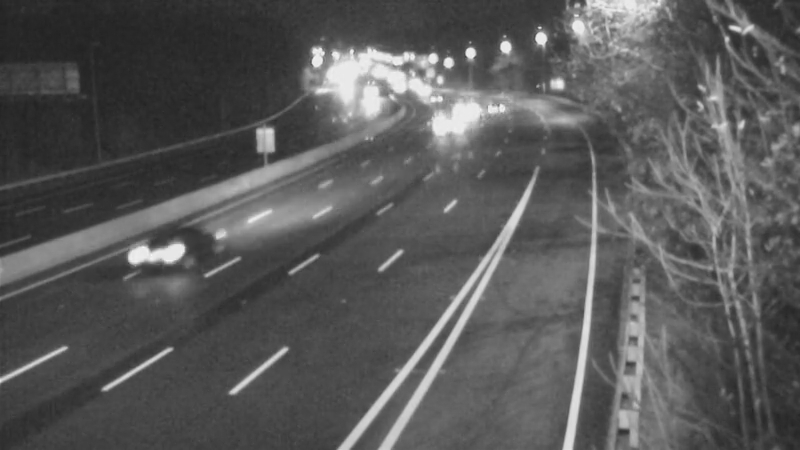vehicle: (117, 210, 197, 290), (402, 66, 452, 116), (412, 74, 462, 124), (438, 83, 488, 133), (466, 84, 516, 134), (415, 102, 465, 152), (344, 71, 394, 121)
